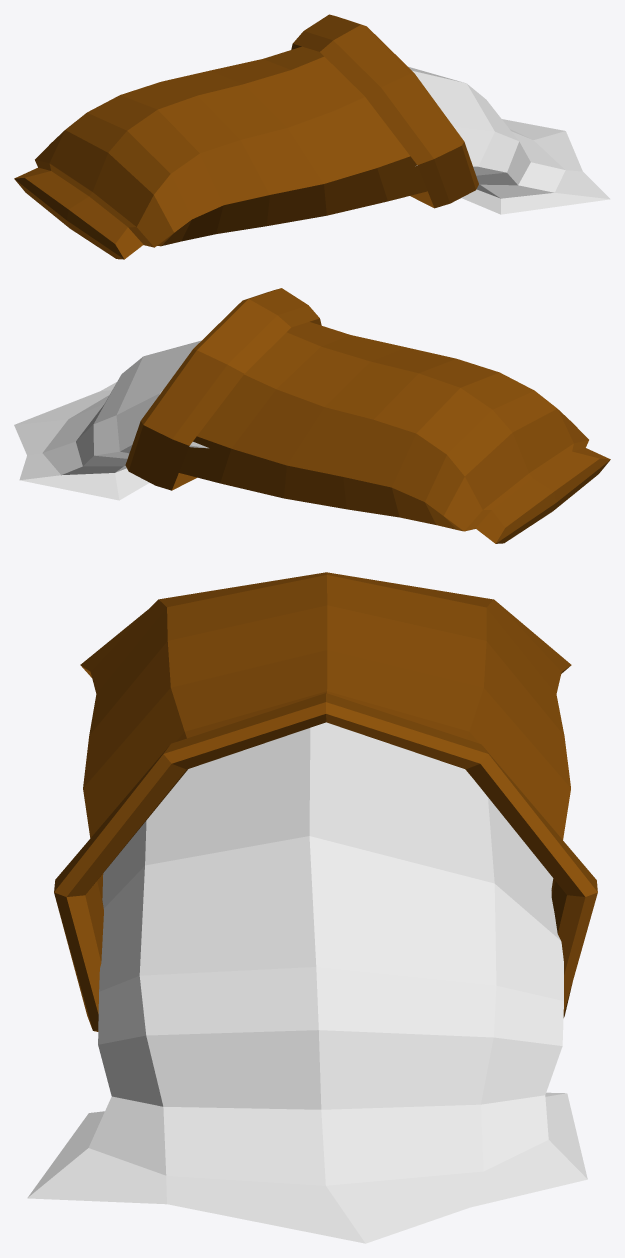
The model's file is flour.fbx.
The picture shows the model from 3 angles, top to bottom: view 1: azimuth 30°, elevation 25°; view 2: azimuth 150°, elevation 25°; view 3: azimuth 270°, elevation 25°; orthographic projection. The views are drawn at different scales.
Visible parts, largest first — view 1: Weat_bag; view 2: Weat_bag; view 3: Weat_bag.
Part boxes in pixels (left/top/right/bottom): Weat_bag: left=14, top=14, right=610, bottom=259; Weat_bag: left=14, top=288, right=610, bottom=543; Weat_bag: left=27, top=572, right=597, bottom=1243.
Bounding box in the file's own units: 380 × 119 × 185.
